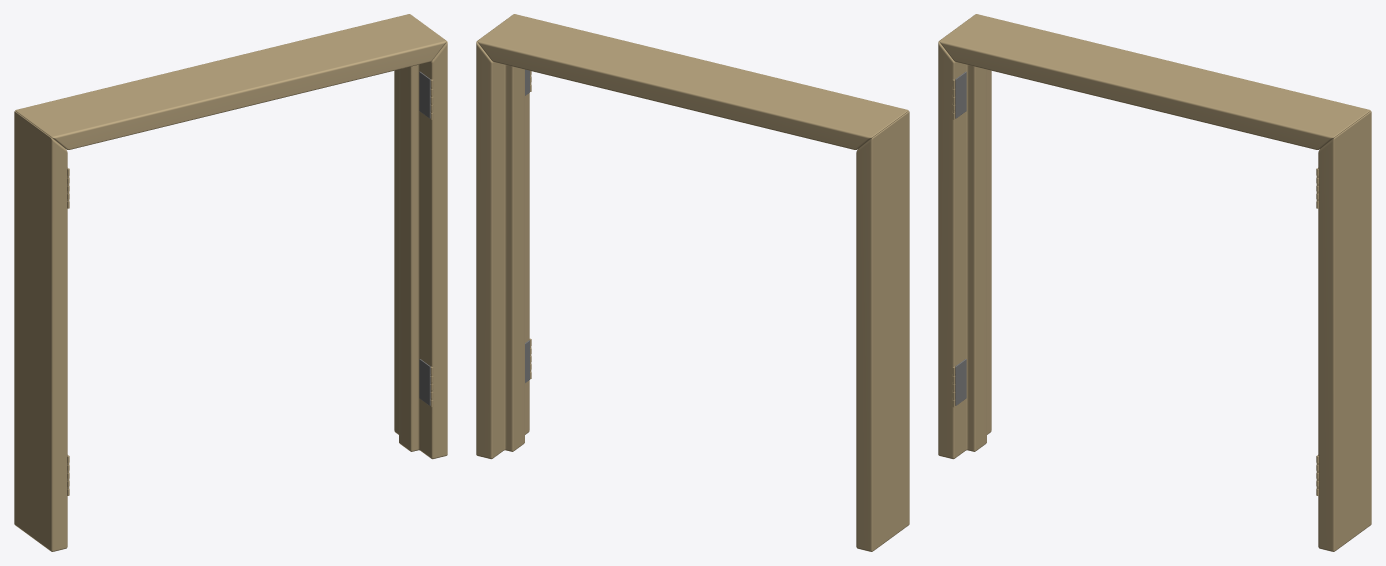
The model's file is frame_high.fbx.
3 renders of one model, left to right at view 1: azimuth 30°, elevation 25°; view 2: azimuth 150°, elevation 25°; view 3: azimuth 330°, elevation 25°, orthographic.
Visible parts, largest first — view 1: Object018; view 2: Object018; view 3: Object018.
Boxes of the visible parts, bbox=[...] form: Object018: bbox=[14, 14, 447, 551]; Object018: bbox=[476, 14, 909, 551]; Object018: bbox=[938, 14, 1371, 551].
Bounding box in the file's own units: 96 × 96 × 16.28.
